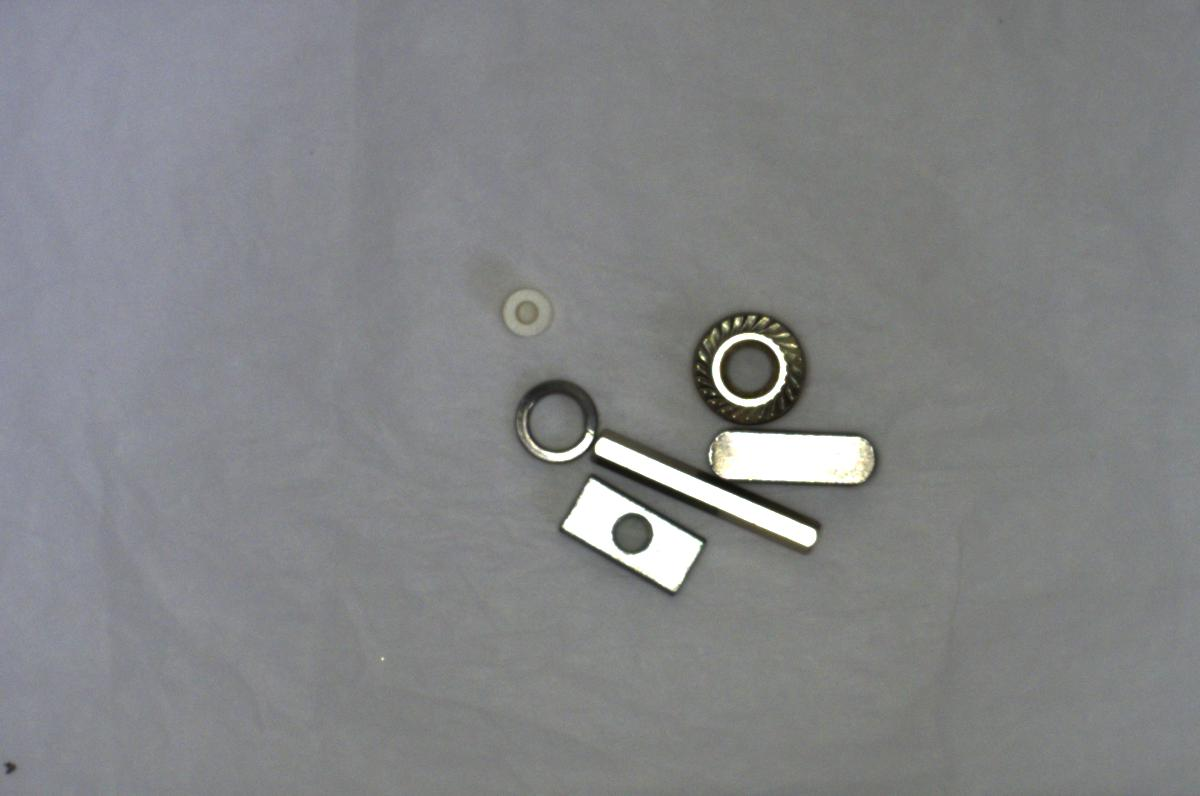Flange nut: (685, 302, 814, 426)
Keybar: (694, 426, 884, 495)
Plastic cushion pillar: (486, 283, 567, 345)
Rectangular nut: (557, 481, 700, 594)
Spring washer: (591, 436, 826, 559), (505, 369, 601, 468)
